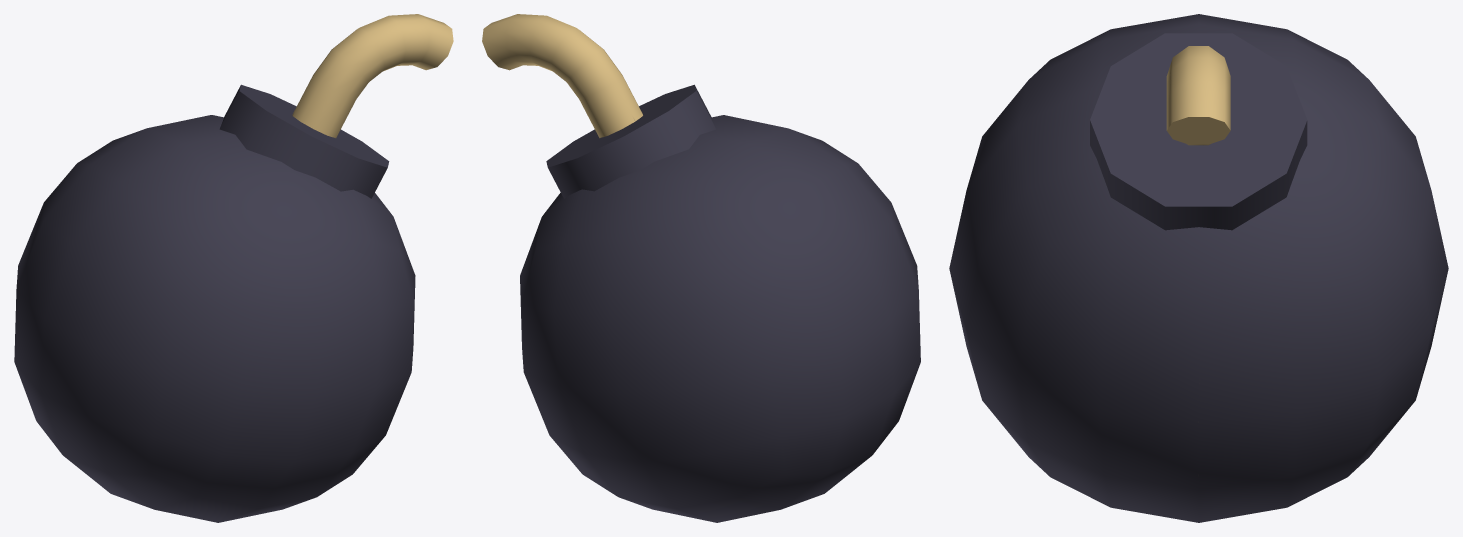
The model's file is bomb.fbx.
3 views of the same model, side by side, from view 1: azimuth 30°, elevation 25°; view 2: azimuth 150°, elevation 25°; view 3: azimuth 270°, elevation 25° (orthographic). The views are drawn at different scales.
Visible parts, largest first — view 1: Bomb, Fuse; view 2: Bomb, Fuse; view 3: Bomb, Fuse.
Boxes of the visible parts, x1,y1,x2,y2 form: Bomb: [14, 115, 415, 522]; Fuse: [219, 14, 453, 198]; Bomb: [520, 115, 920, 522]; Fuse: [482, 14, 715, 198]; Bomb: [949, 14, 1448, 522]; Fuse: [1090, 33, 1307, 230].
Size of the model in its own units: 63.25 by 65.19 by 54.26.
